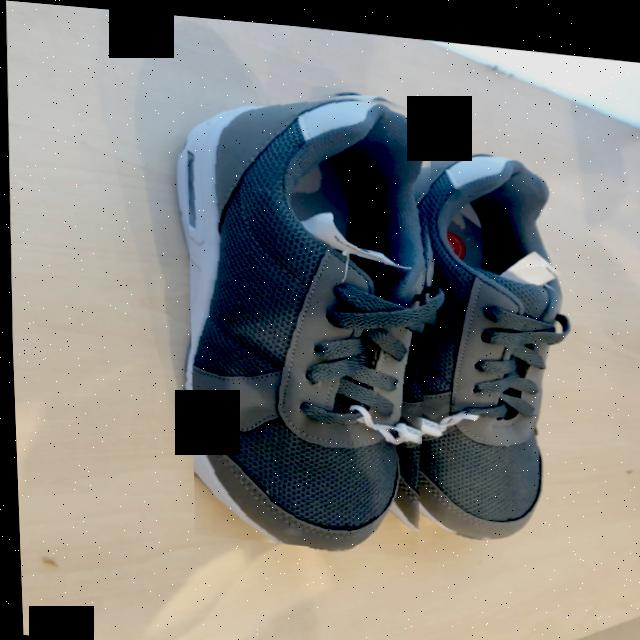shoe: (186, 92, 430, 543)
